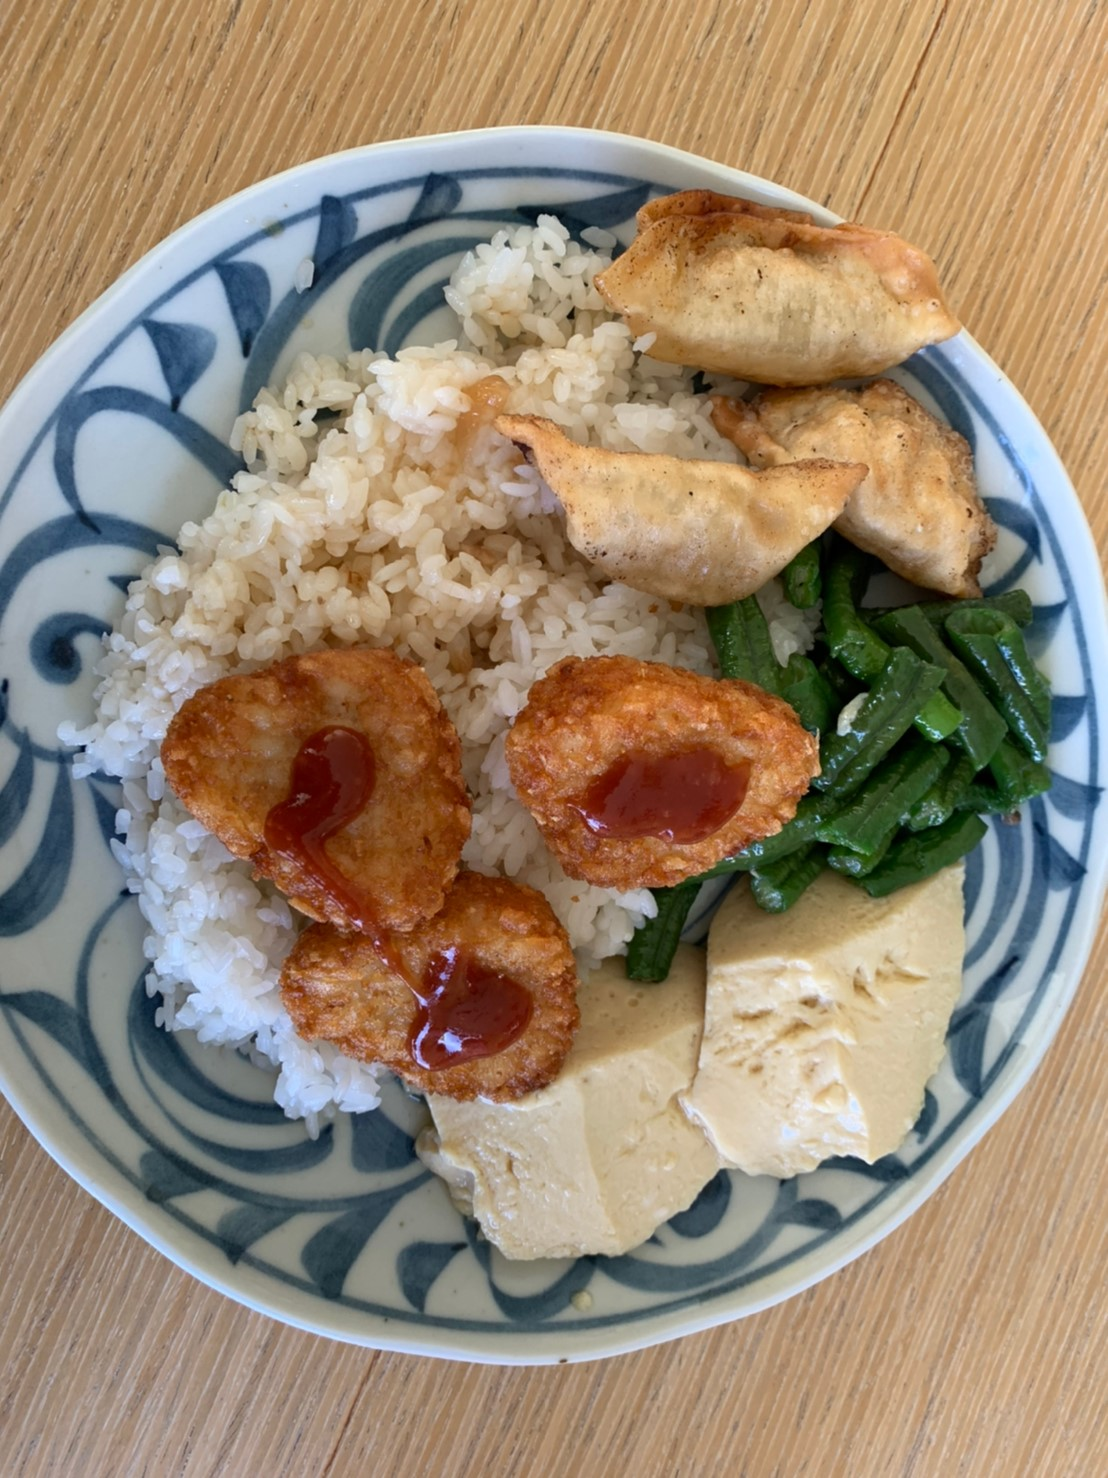fried_dumplings: (506, 184, 1020, 631)
rice: (173, 340, 509, 644)
triangle_hash_brown: (163, 641, 580, 1110), (507, 658, 828, 898)
